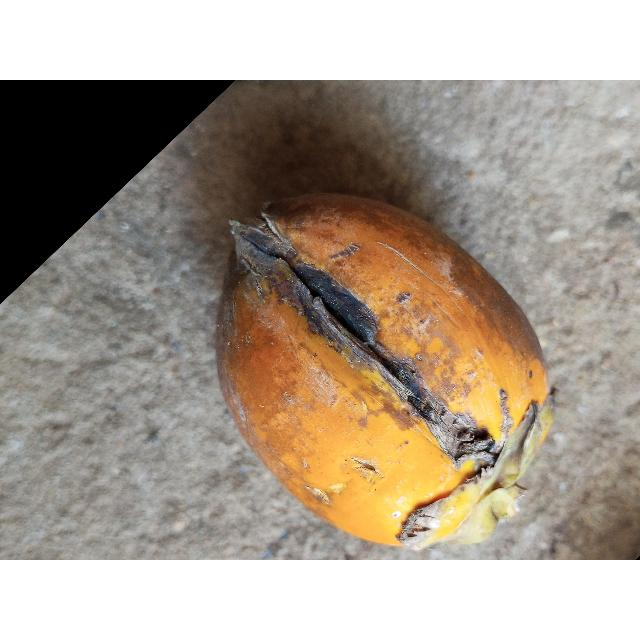damaged: (216, 194, 553, 549)
